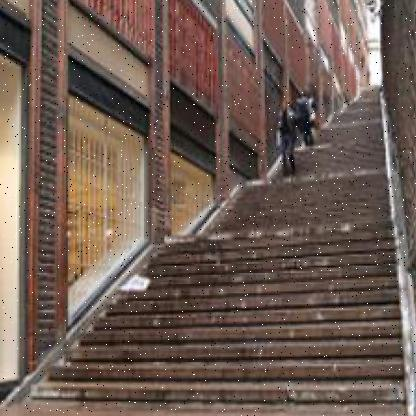stair_up: (71, 267, 404, 416)
